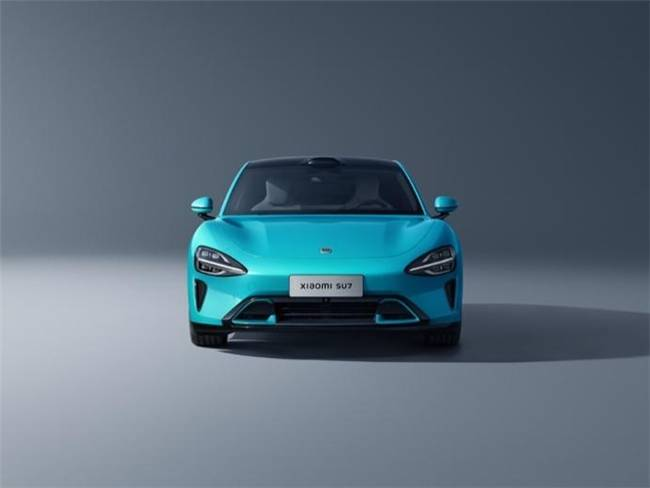su7: (187, 159, 465, 358)
